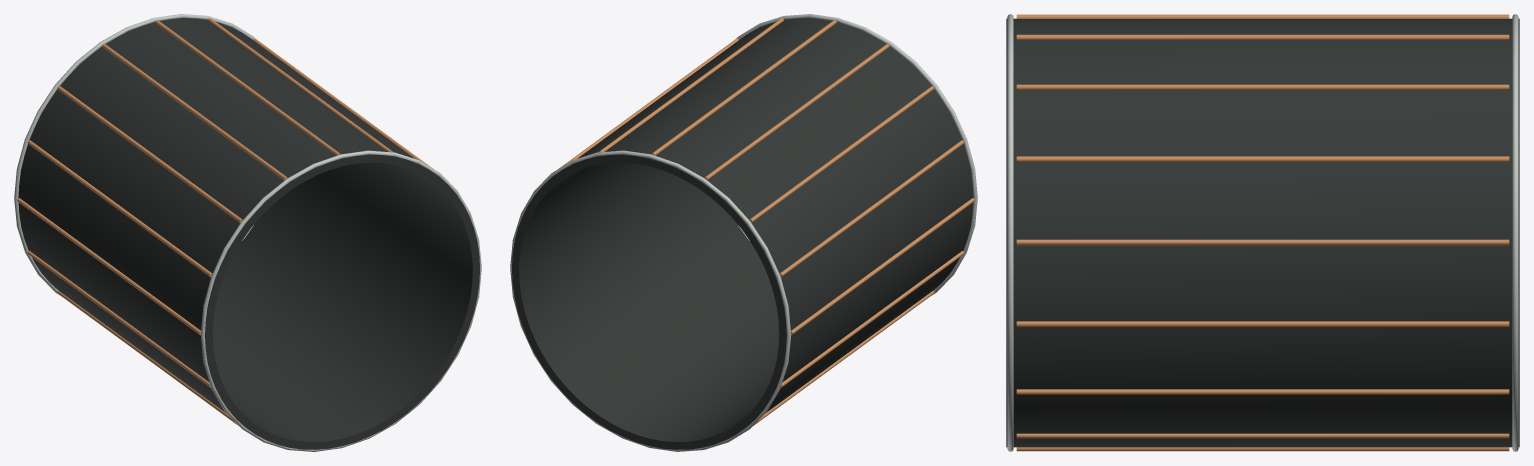
File: spacecraft-thermal-test-chamber-internal-thermal-shrou-b2b8b949__32029.glb
3 renders of one model, left to right at view 1: azimuth 30°, elevation 25°; view 2: azimuth 150°, elevation 25°; view 3: azimuth 270°, elevation 25°, orthographic. The views are drawn at different scales.
Parts seen in each view (by area): view 1: internal-thermal-shroud; view 2: internal-thermal-shroud; view 3: internal-thermal-shroud.
Boxes of the visible parts, x1,y1,x2,y2 form: internal-thermal-shroud: [14, 14, 481, 451]; internal-thermal-shroud: [510, 14, 977, 451]; internal-thermal-shroud: [1006, 14, 1519, 451].
Size of the model in its own units: 2.14 by 2.14 by 2.5.
